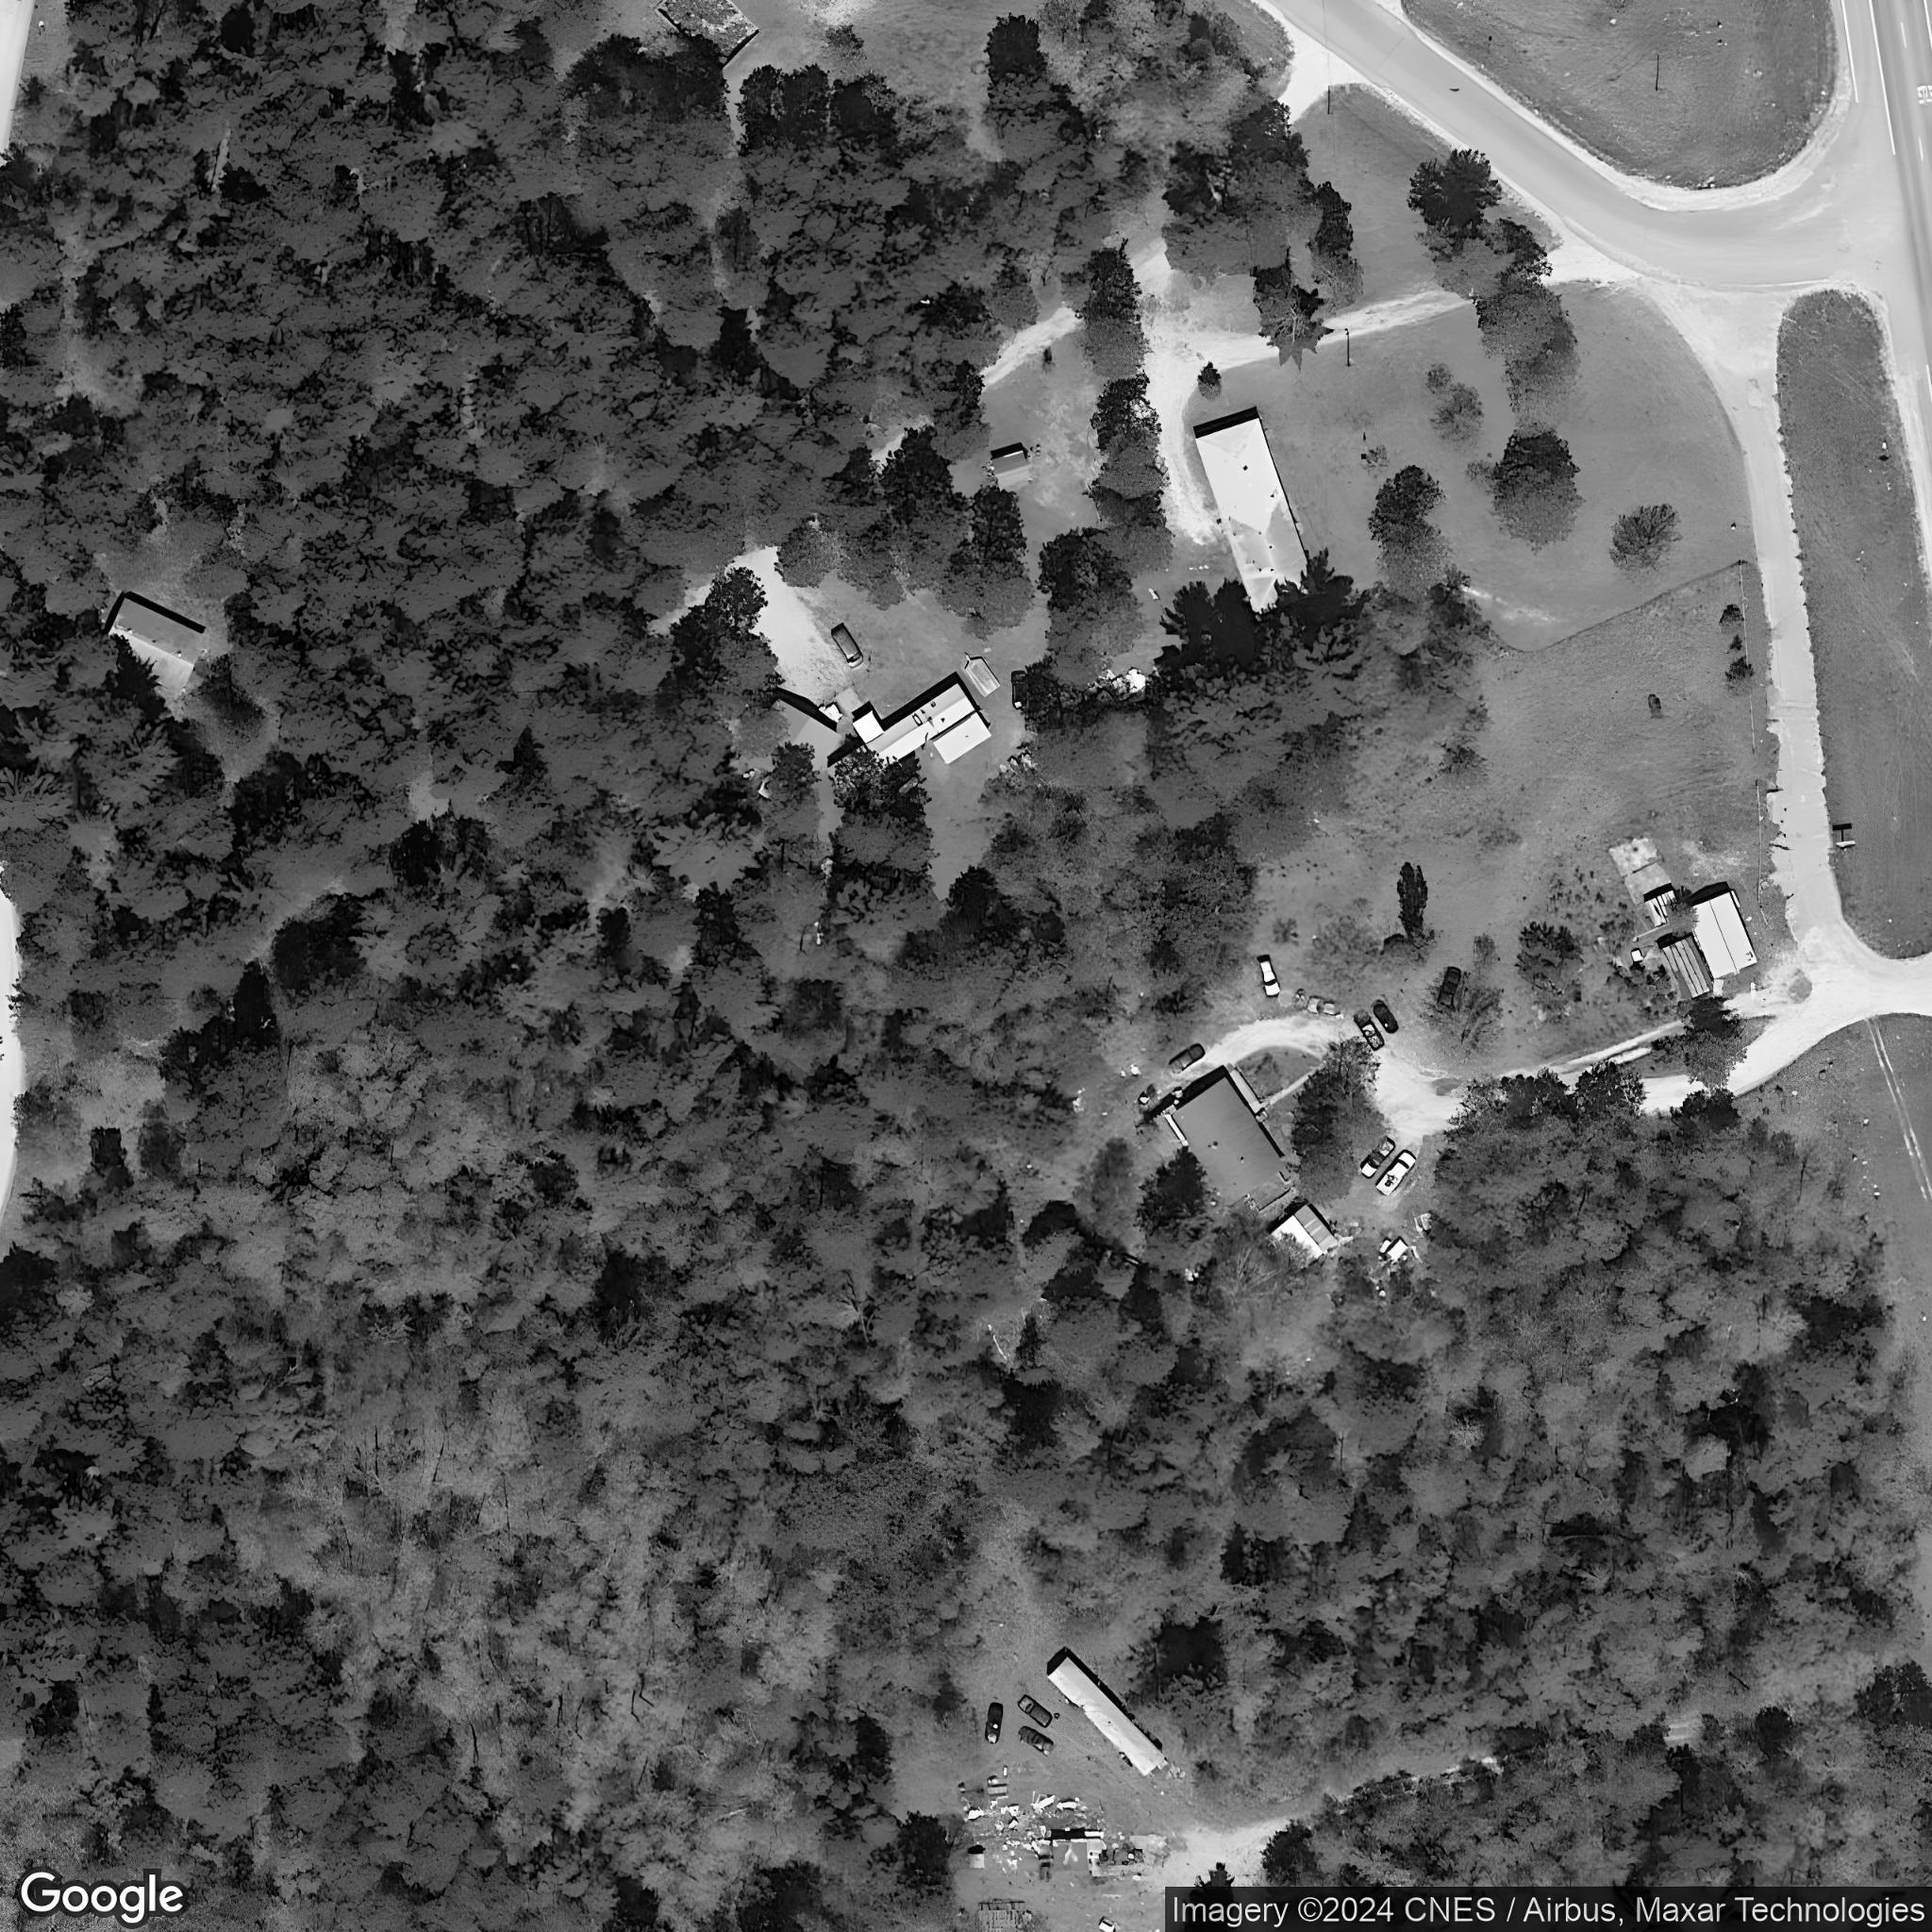Garage: (736, 695, 840, 793)
House: (1191, 414, 1322, 617), (1169, 1074, 1286, 1208), (96, 593, 207, 699)
Trailer: (823, 681, 993, 800), (1044, 1656, 1168, 1778)
